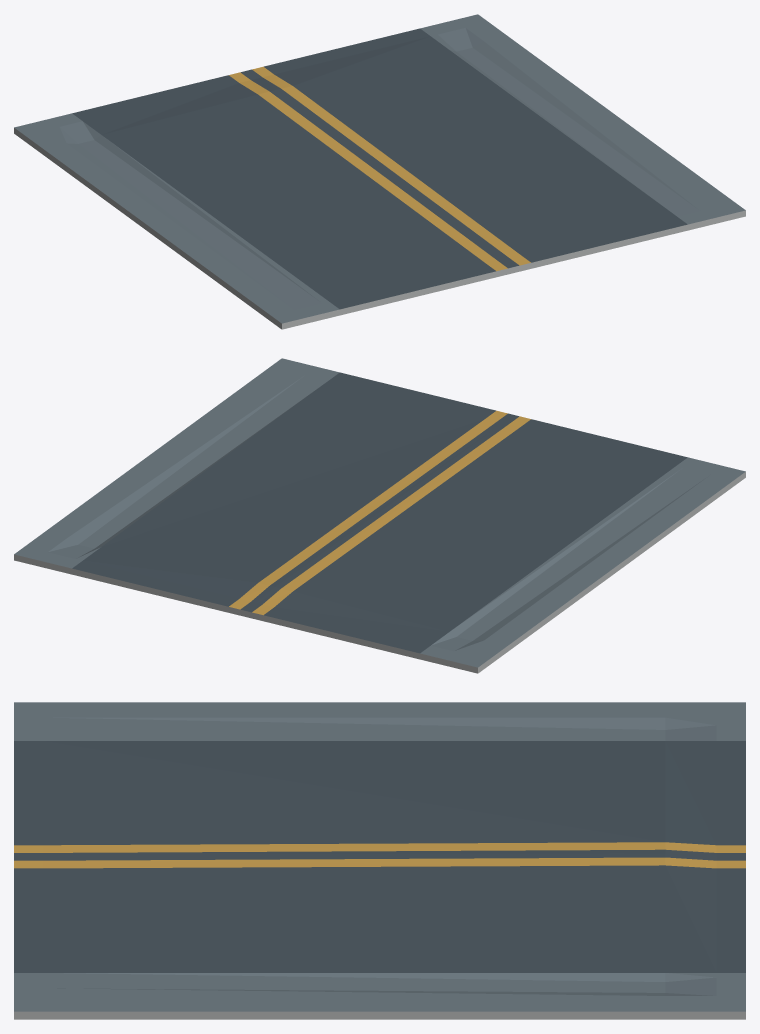
Rendered from residential-street-tile-f07dda.glb.
3 views of the same model, one above another, from view 1: azimuth 30°, elevation 25°; view 2: azimuth 150°, elevation 25°; view 3: azimuth 270°, elevation 25° (orthographic). The views are drawn at different scales.
Visible parts, largest first — view 1: street-tile; view 2: street-tile; view 3: street-tile.
Part boxes in pixels (bbox=[...]): street-tile: bbox=[14, 14, 745, 329]; street-tile: bbox=[14, 358, 745, 673]; street-tile: bbox=[14, 702, 745, 1019].
Size of the model in its own units: 4 by 0.07 by 4.
